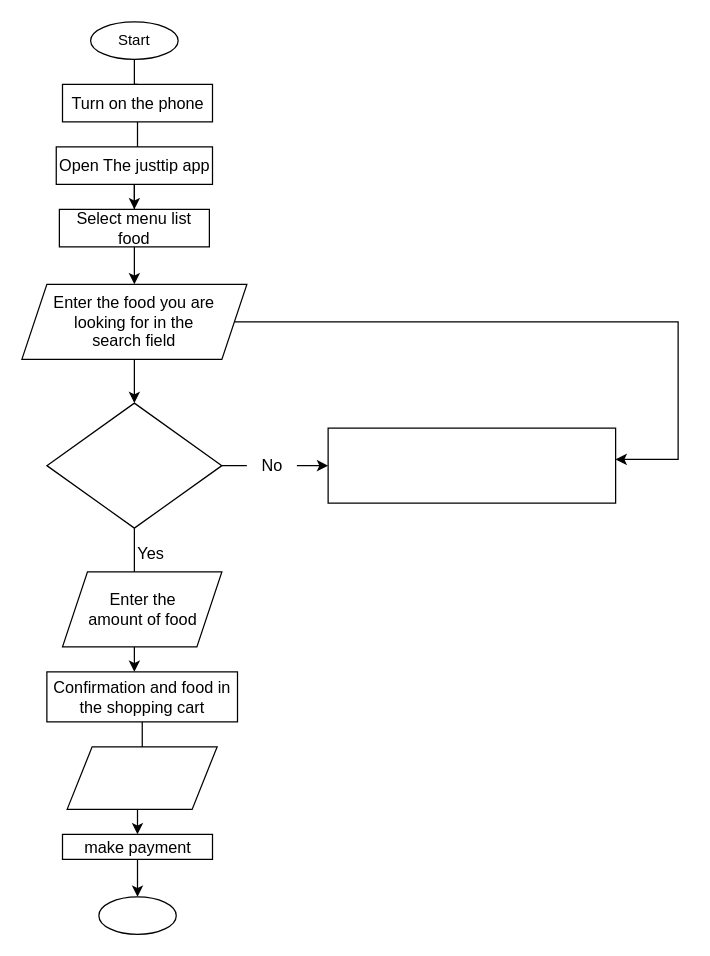
Image size: 710x956. Some labels were removed from this diagram. The centre of each missing label's shape, as x and y in pixels:
Enter Shipping address: (141,777)
Finish: (137,915)
is food on the menu and available?: (134,465)
Show error{'menu not available"): (471,465)
